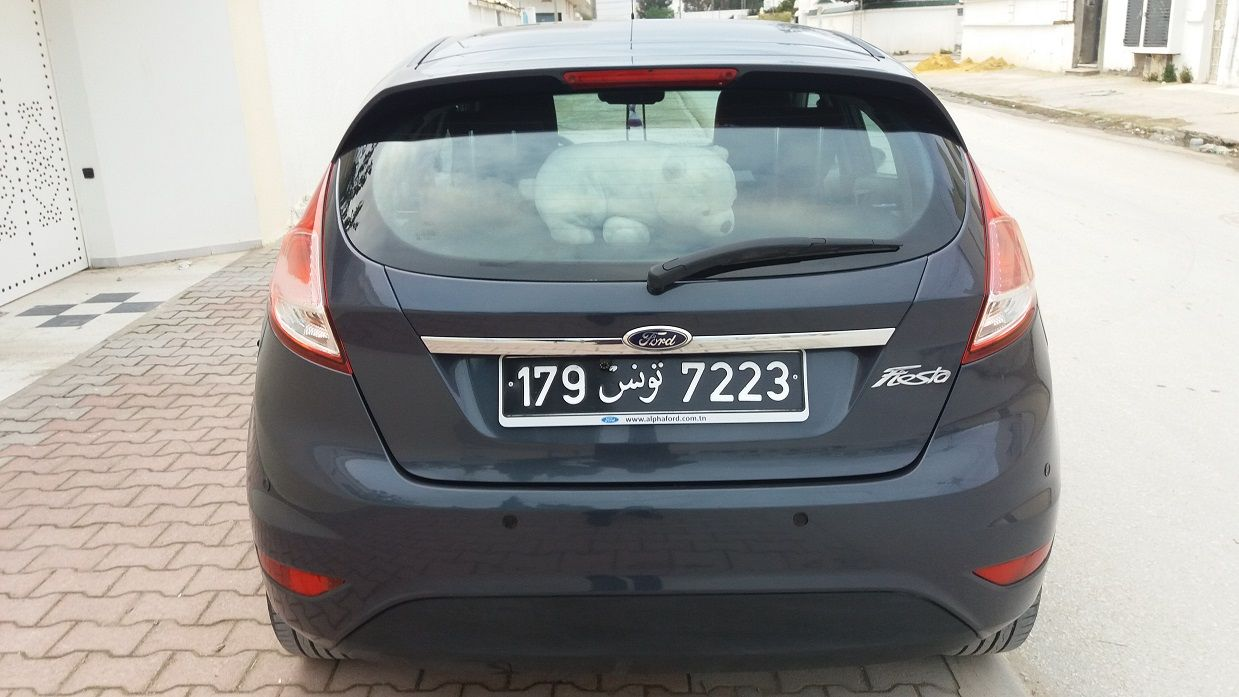LP: (499, 353, 806, 414)
